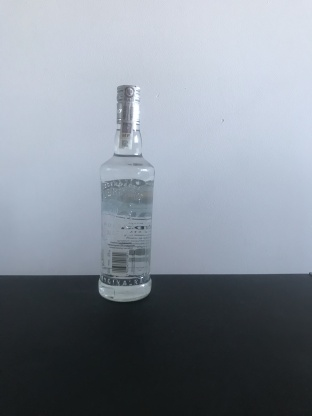nakretka: (114, 81, 142, 127)
